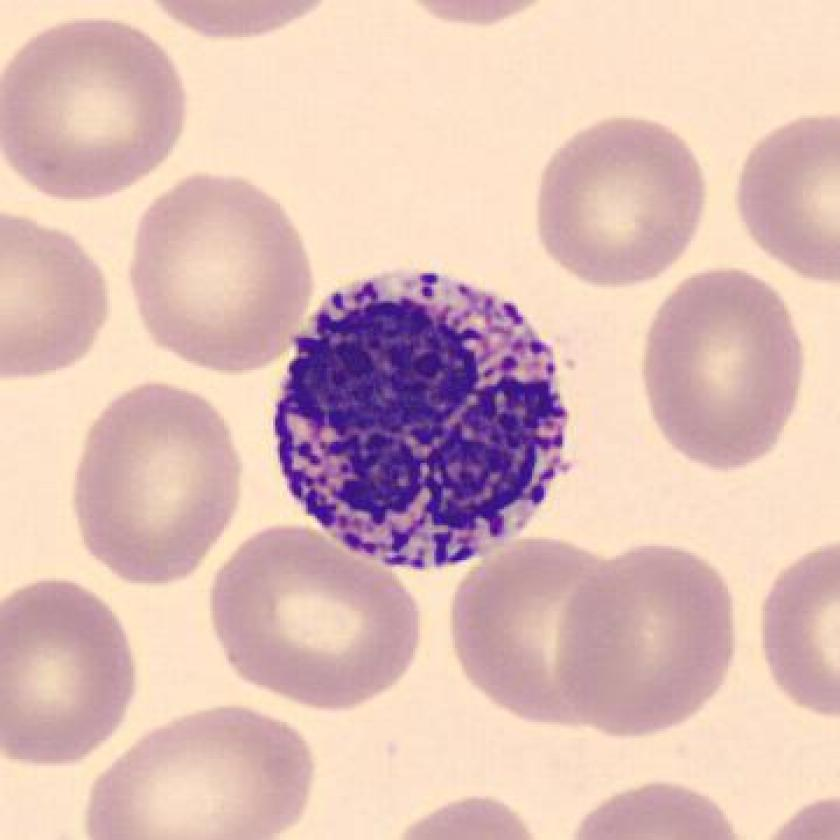basophil: (265, 253, 582, 584)
